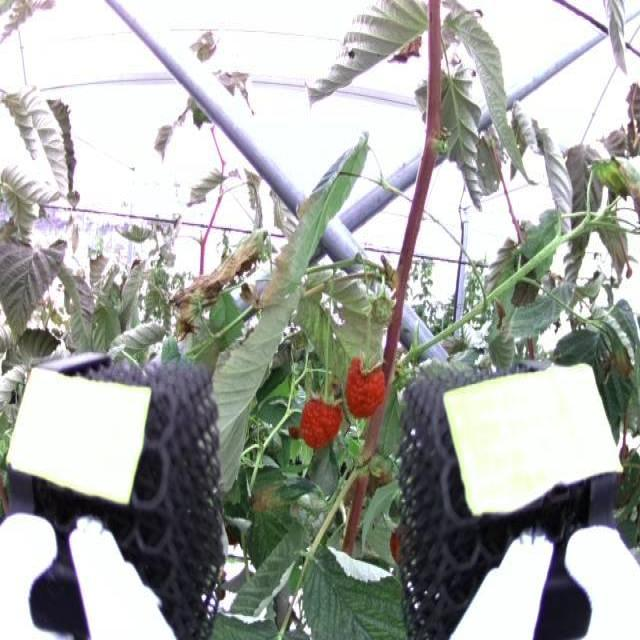Riped berries: (341, 350, 391, 426), (300, 390, 340, 448)
